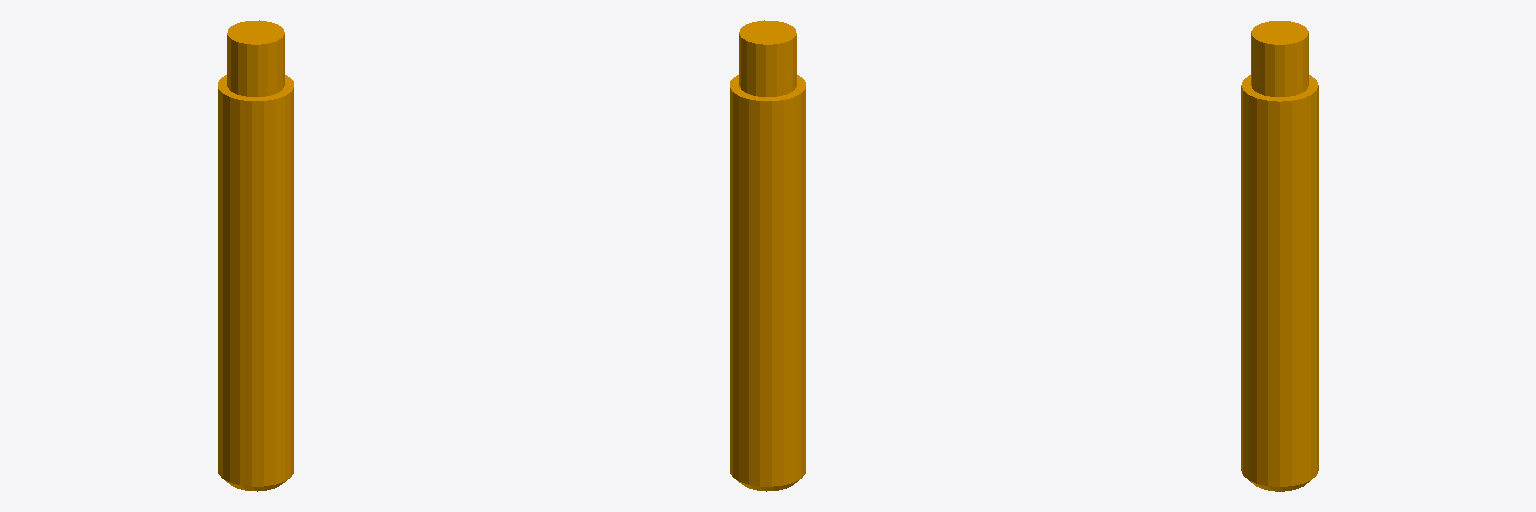
robot.urdf — 00016_plug:
<?xml version="1.0"?>
<robot name="00016_plug">
	<link name="00016_plug">
		<visual>
			<geometry>
				<mesh filename="../mesh/00016/asset_plug.obj"/>
			</geometry>
		</visual>
		<collision>
			<geometry>
				<mesh filename="../mesh/00016/asset_plug.obj"/>
			</geometry>
			<sdf resolution="256"/>
		</collision>
	</link>
</robot>

--- What the picture shows (computed from the rendered views, not written in the file) ---
Views: 3 orthographic renders of the robot side by side, from view 1: azimuth 30°, elevation 25°; view 2: azimuth 150°, elevation 25°; view 3: azimuth 270°, elevation 25°.
Model 00016_plug with 1 links and 0 joints (none), rooted at 00016_plug, posed every joint at zero.
Visible links, largest first — view 1: 00016_plug; view 2: 00016_plug; view 3: 00016_plug.
Link boxes in pixels (x1,y1,x2,y2): 00016_plug: [218, 20, 293, 491]; 00016_plug: [730, 20, 805, 491]; 00016_plug: [1241, 21, 1318, 491].
Bounding box of the posed robot: 0.0081 × 0.0081 × 0.0516 m (x, y, z).
1 mesh visuals loaded from 1 distinct referenced files (1 OBJ).
